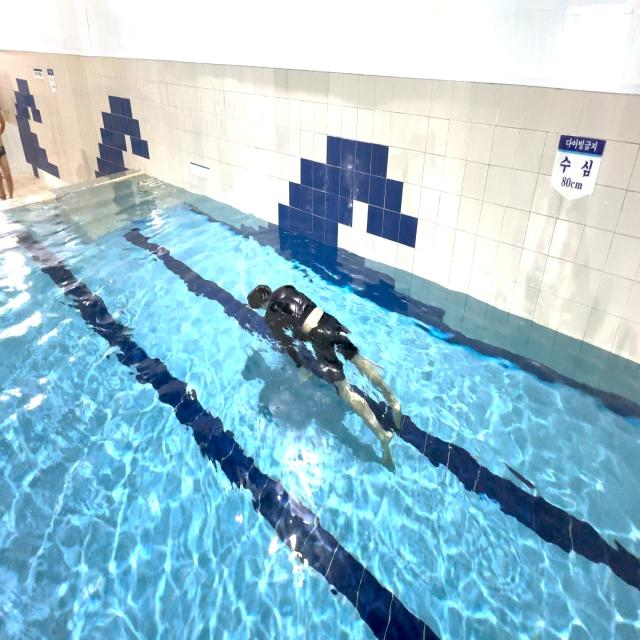Drowning: (245, 272, 411, 476)
